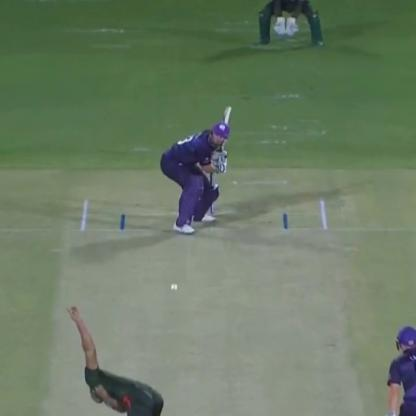ball: (167, 280, 181, 294)
bat: (208, 105, 237, 153)
pitch: (53, 197, 365, 416)
